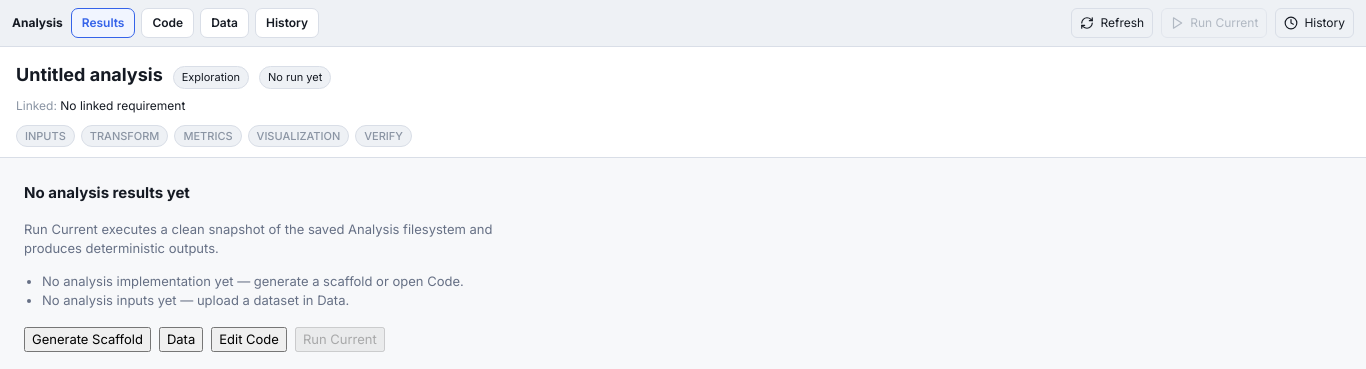
Analysis productization › defaults to Results empty state and opens Code on demand
This screenshot has width=1366, height=369.
expect the element with test id "analysis-results-empty" is shown: met, box x1=24 y1=183 x2=492 y2=352
Click the tab with test id "analysis-mode-code". click: (168, 23)
box: x1=142 y1=8 x2=194 y2=38
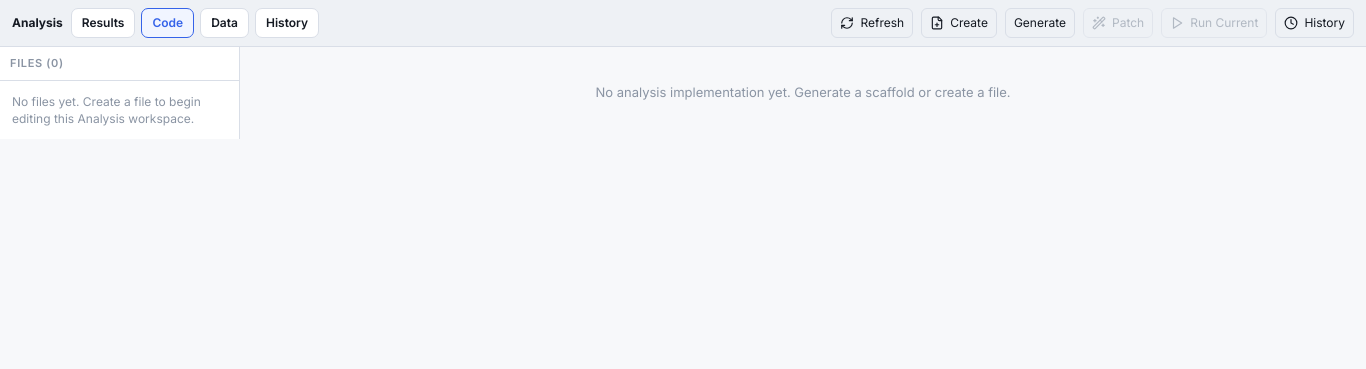
expect the element with test id "analysis-editor-empty" is shown: met, box x1=595 y1=84 x2=1011 y2=100
expect the button with test id "analysis-create-toggle" is shown: met, box x1=921 y1=8 x2=997 y2=38
